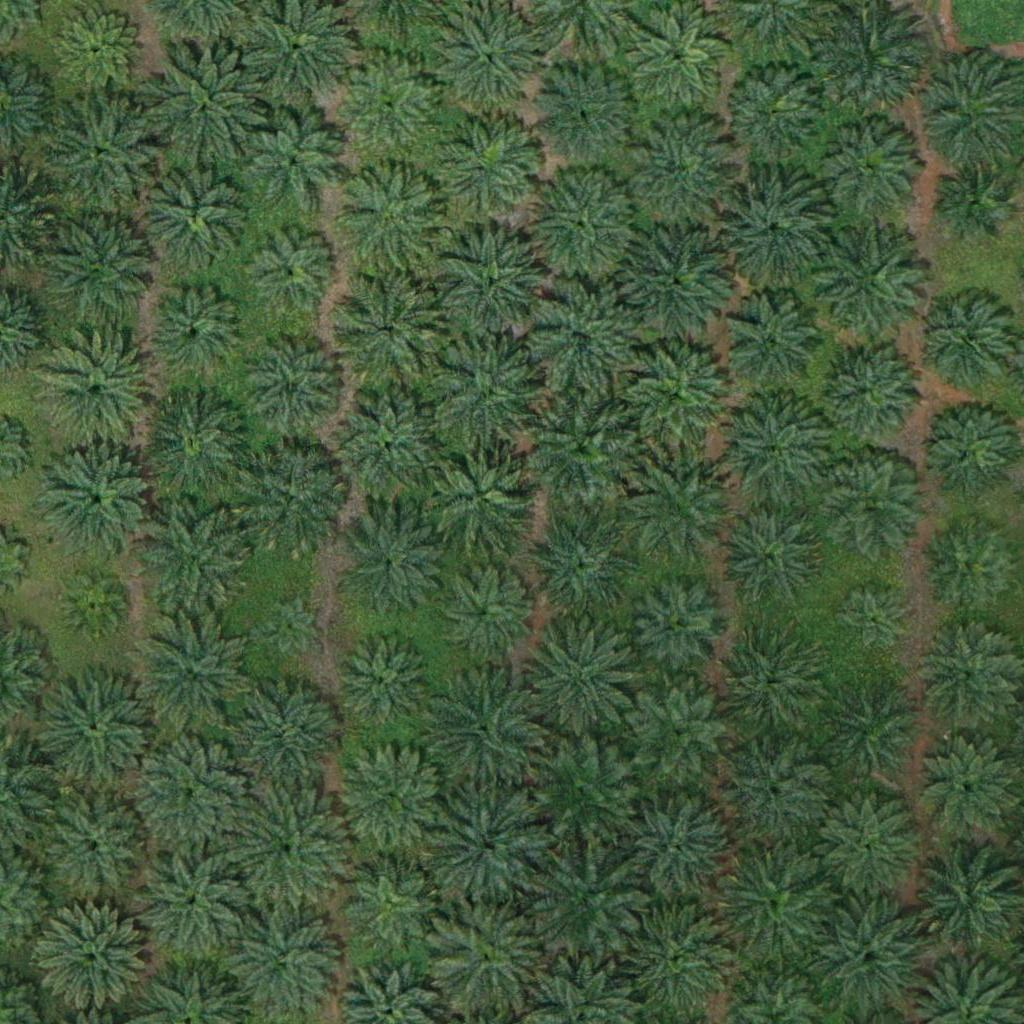Kelapa_Sawit: (523, 731, 636, 845), (429, 667, 542, 781), (335, 511, 448, 625), (530, 841, 643, 955), (39, 336, 152, 449), (336, 164, 449, 277), (328, 273, 441, 386), (525, 57, 638, 170), (628, 111, 741, 224), (620, 221, 733, 334), (721, 396, 834, 509), (622, 342, 735, 455), (433, 341, 546, 454), (424, 440, 537, 553), (429, 789, 542, 902), (333, 392, 446, 505), (132, 613, 245, 726), (136, 736, 249, 849), (41, 447, 154, 560), (38, 673, 151, 786), (38, 903, 151, 1016), (131, 848, 244, 961), (430, 902, 543, 1015), (719, 840, 832, 953), (816, 900, 929, 1013), (47, 97, 159, 211), (44, 209, 156, 323), (141, 277, 253, 391), (812, 111, 924, 225), (618, 792, 730, 906), (235, 446, 347, 560), (138, 389, 250, 503), (626, 900, 738, 1014), (148, 47, 260, 160), (142, 160, 254, 273), (431, 4, 543, 117), (436, 228, 548, 341), (524, 171, 636, 284), (525, 283, 637, 396), (716, 164, 828, 277), (814, 229, 926, 342), (717, 737, 829, 850), (624, 453, 736, 566), (527, 393, 639, 506), (523, 505, 635, 618), (525, 617, 637, 730), (336, 744, 448, 857), (230, 678, 342, 791), (232, 791, 344, 904), (141, 502, 253, 615), (38, 792, 150, 905), (226, 909, 338, 1022), (241, 109, 341, 210), (337, 55, 437, 156), (437, 115, 537, 216), (627, 2, 727, 103), (722, 293, 822, 394), (919, 396, 1019, 497), (923, 515, 1023, 616), (915, 623, 1015, 724), (915, 734, 1015, 835), (819, 341, 919, 442), (820, 453, 920, 554), (822, 679, 922, 780), (820, 795, 920, 896), (720, 502, 820, 603), (717, 635, 817, 736), (630, 579, 730, 680), (630, 682, 730, 783), (341, 849, 441, 950), (244, 338, 344, 438), (723, 59, 823, 159), (912, 292, 1012, 392), (434, 561, 534, 661), (332, 630, 432, 730), (53, 6, 141, 94), (250, 228, 337, 316), (935, 161, 1010, 237), (833, 585, 908, 660), (62, 574, 125, 637), (259, 594, 321, 657)
